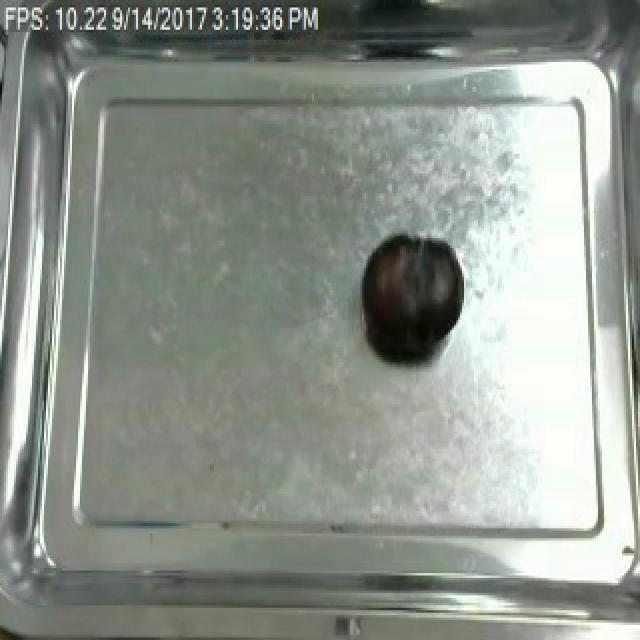Fruit: (356, 231, 464, 362)
